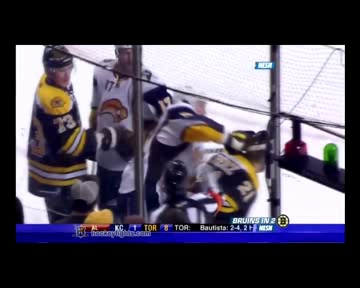normal: (25, 45, 173, 205)
